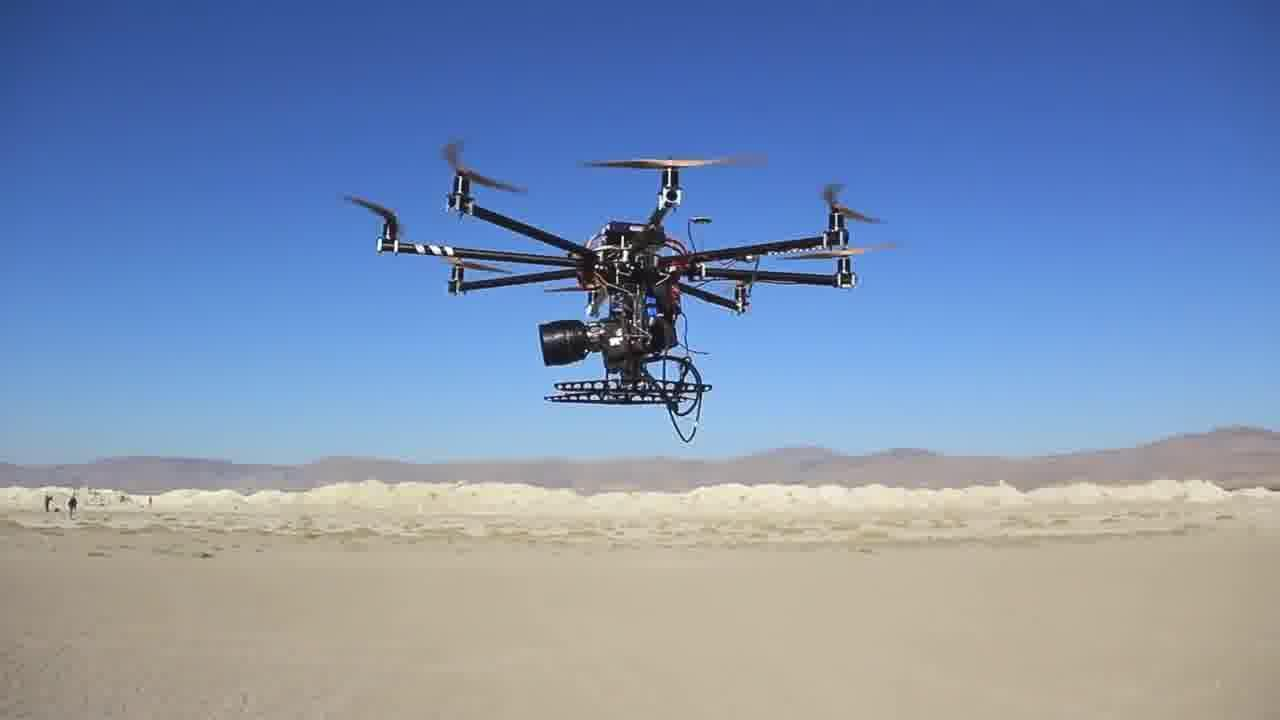drone: (339, 138, 897, 407)
